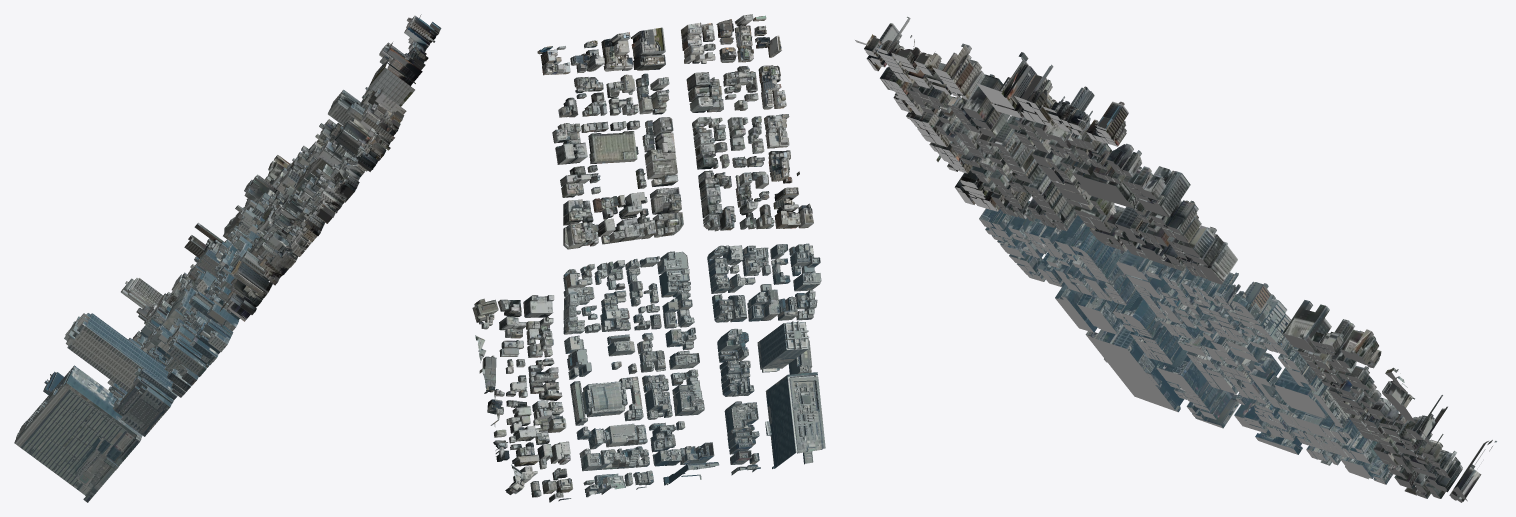
Rendered from 9884_bldg_Building.glb.
3 views of the same model, side by side, from view 1: azimuth 30°, elevation 25°; view 2: azimuth 150°, elevation 25°; view 3: azimuth 270°, elevation 25° (orthographic). The views are drawn at different scales.
Size of the model in its own units: 500 by 522 by 635.
16 materials, 12 textured.
